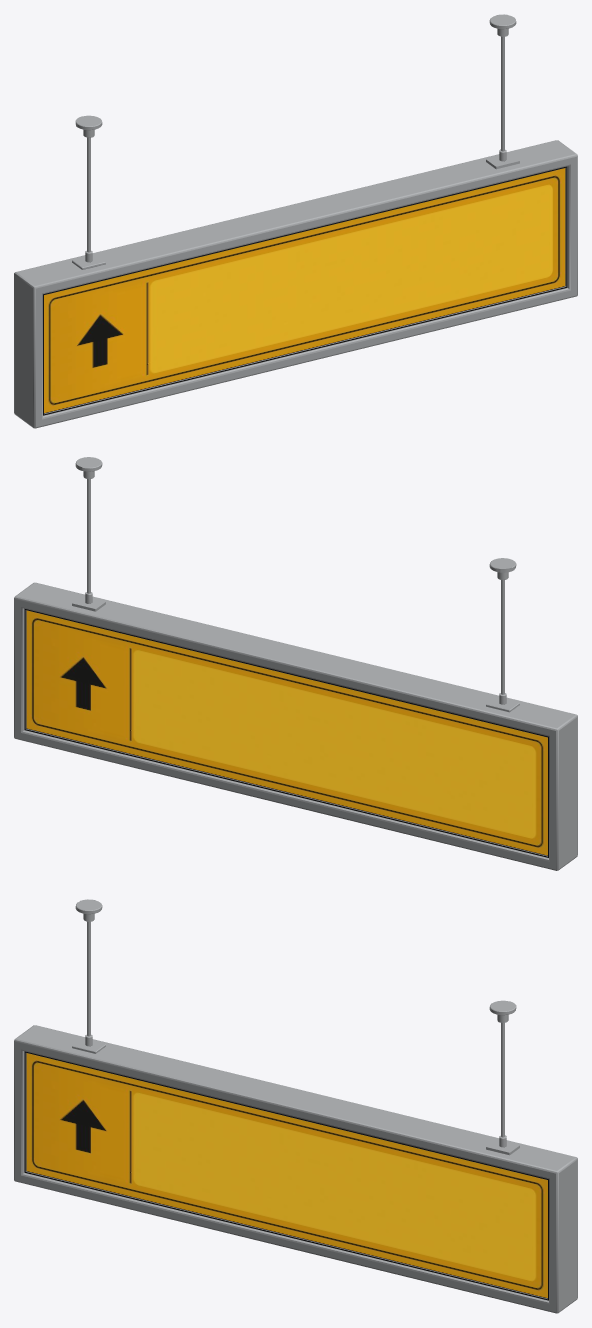
Rendered from gteki_sign_hanging_exit_yellow_up.glb.
3 views of the same model, one above another, from view 1: azimuth 30°, elevation 25°; view 2: azimuth 150°, elevation 25°; view 3: azimuth 330°, elevation 25° (orthographic).
Visible parts, largest first — view 1: VIS_faces, VIS_frame, VIS_mount; view 2: VIS_faces, VIS_frame, VIS_mount; view 3: VIS_faces, VIS_frame, VIS_mount.
Part boxes in pixels (box(x1,y1,x2,y2)): VIS_faces: box(44, 168, 565, 412); VIS_frame: box(14, 140, 577, 428); VIS_mount: box(72, 14, 519, 269); VIS_faces: box(26, 610, 547, 855); VIS_frame: box(14, 582, 577, 870); VIS_mount: box(72, 457, 519, 712); VIS_faces: box(26, 1053, 547, 1297); VIS_frame: box(14, 1025, 577, 1313); VIS_mount: box(72, 899, 519, 1155).
Size of the model in its own units: 1.8 by 0.9 by 0.12.
3 materials, 1 textured.
